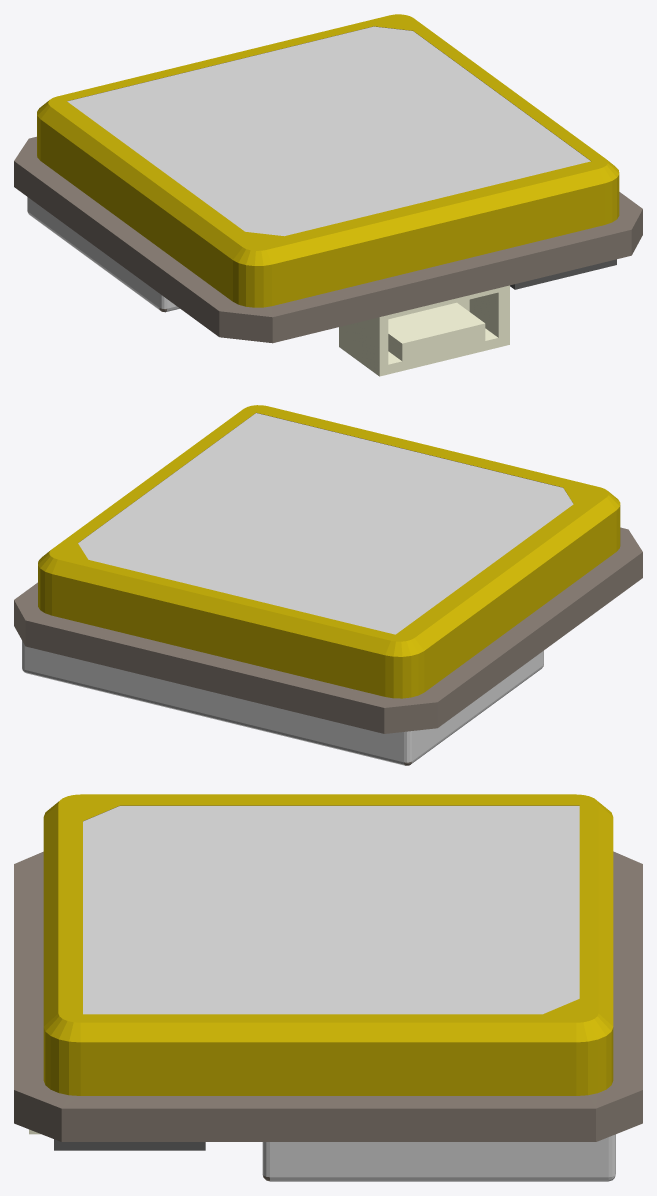
The model's file is model_geprc_gep_m10_dq-CRmLxO3j.glb.
3 renders of one model, top to bottom at view 1: azimuth 30°, elevation 25°; view 2: azimuth 150°, elevation 25°; view 3: azimuth 270°, elevation 25°, orthographic. The views are drawn at different scales.
Bounding box in the file's own units: 17 × 5.5 × 17.
